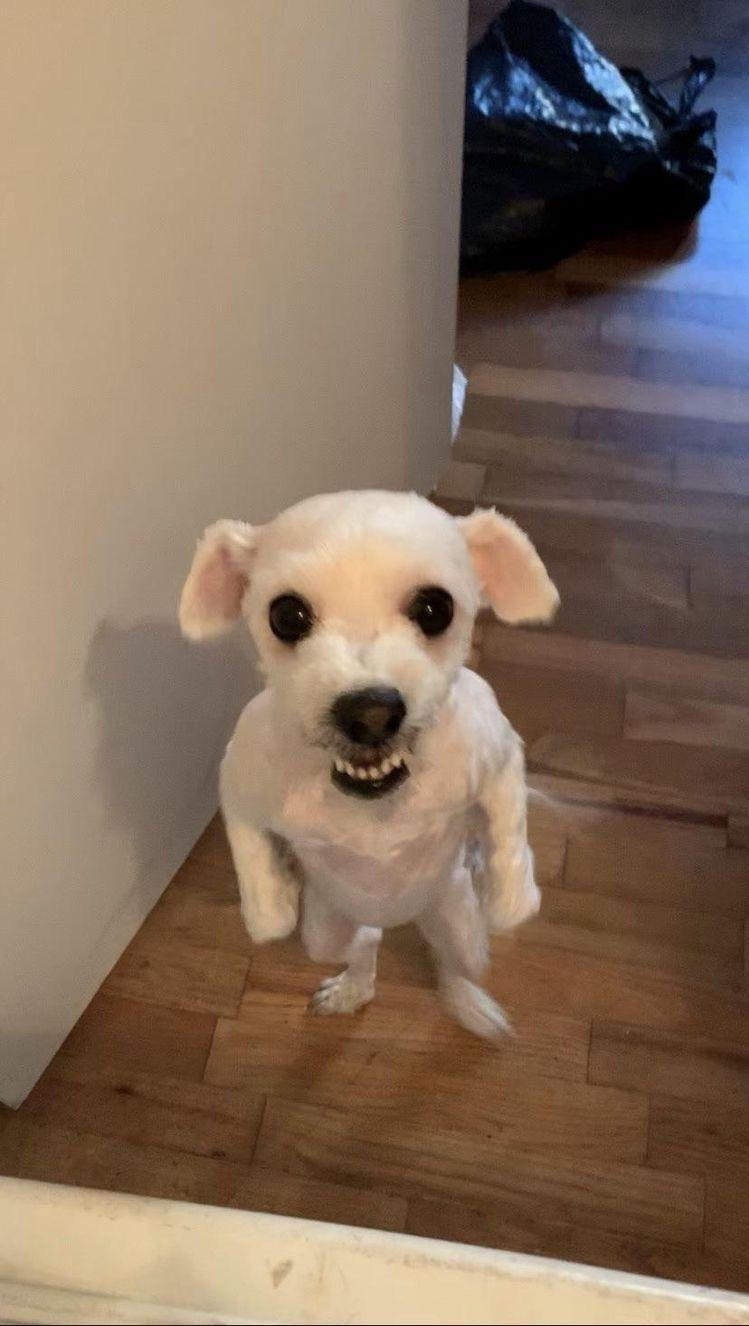adult_dog: (177, 484, 562, 1042)
